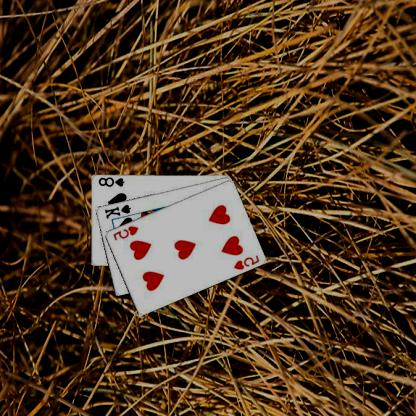5H: (233, 252, 262, 271), (112, 223, 141, 241)
8S: (98, 175, 127, 188)
KS: (104, 202, 134, 220)
